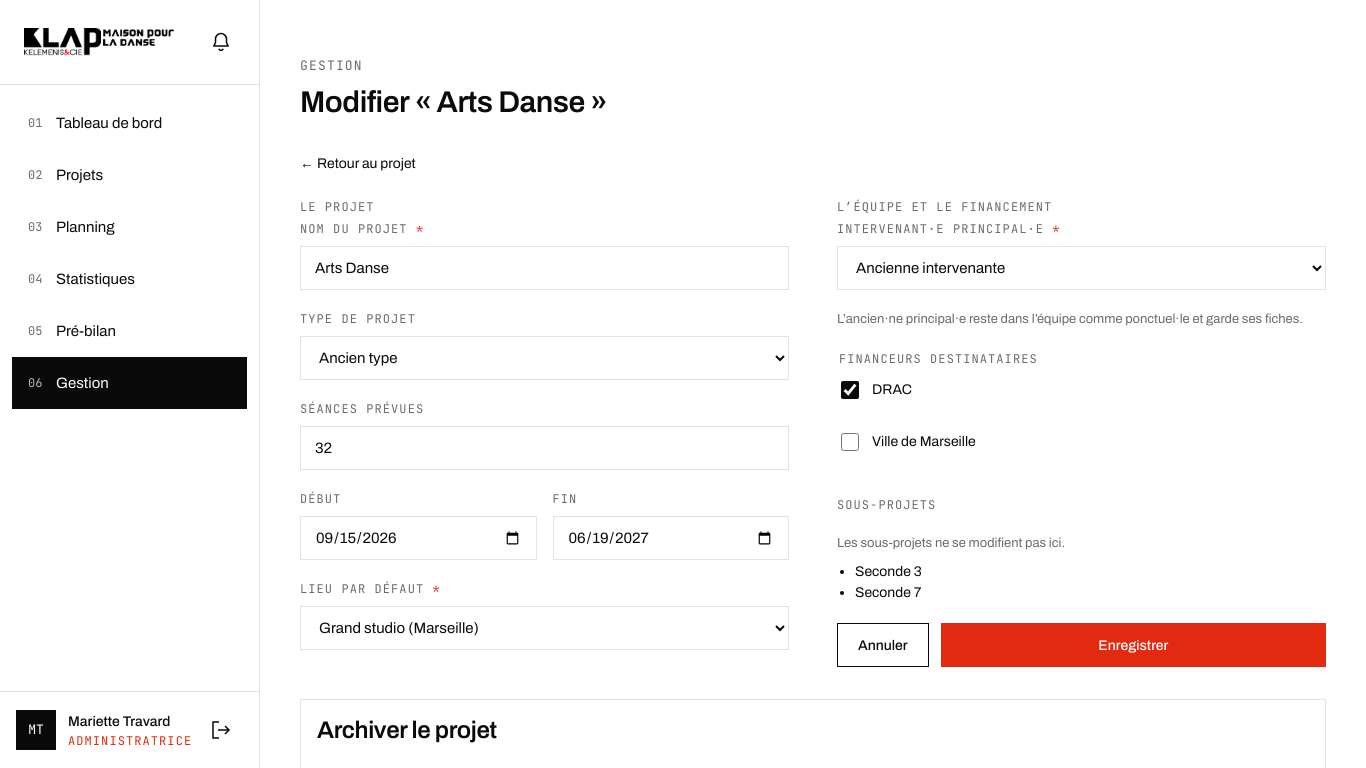
Test: Modifier un projet › ne fait aucun appel quand rien n’a changé
Click the button "Enregistrer".
click(1133, 645)  # box left=941, top=623, right=1326, bottom=667
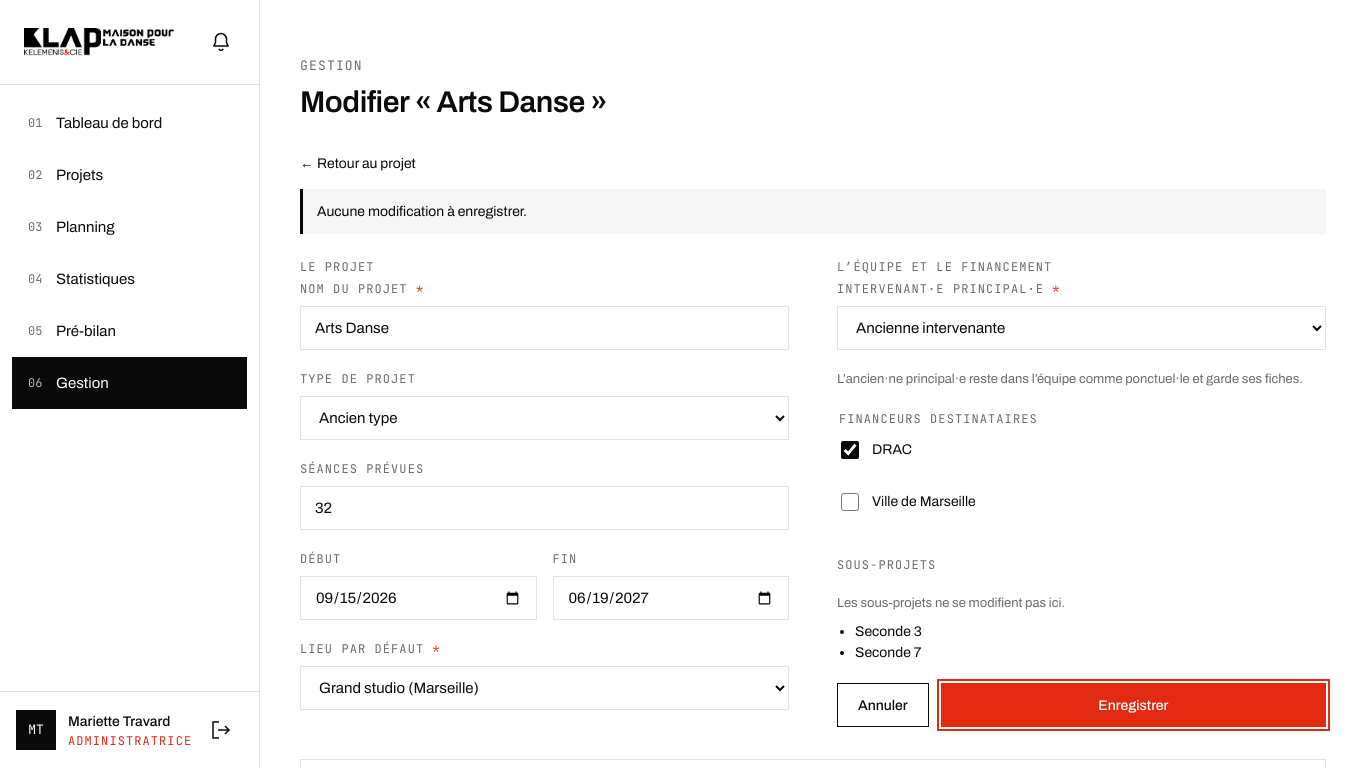
Now the message reads "Aucune modification à enregistrer.", box left=317, top=204, right=527, bottom=219
